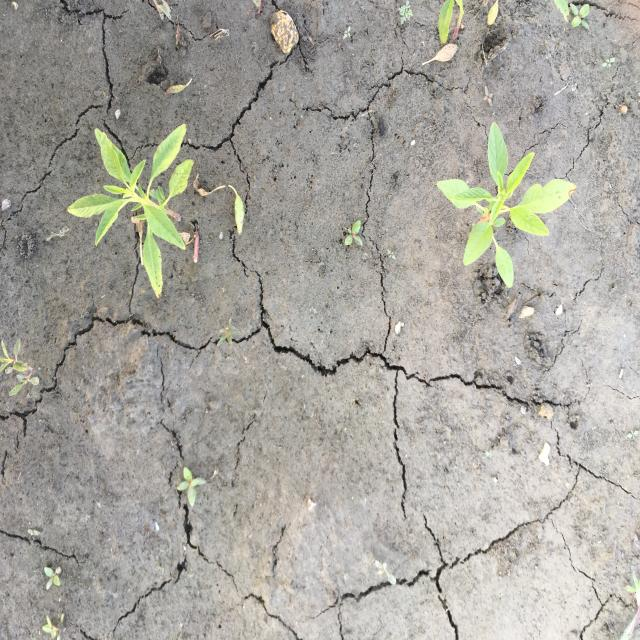Ragweed: (397, 1, 415, 25)
Waterhemp: (436, 122, 578, 290), (66, 122, 195, 301), (1, 338, 42, 401)
